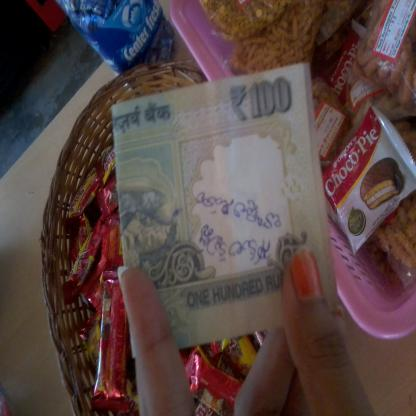Old100Back: (111, 61, 339, 358)
